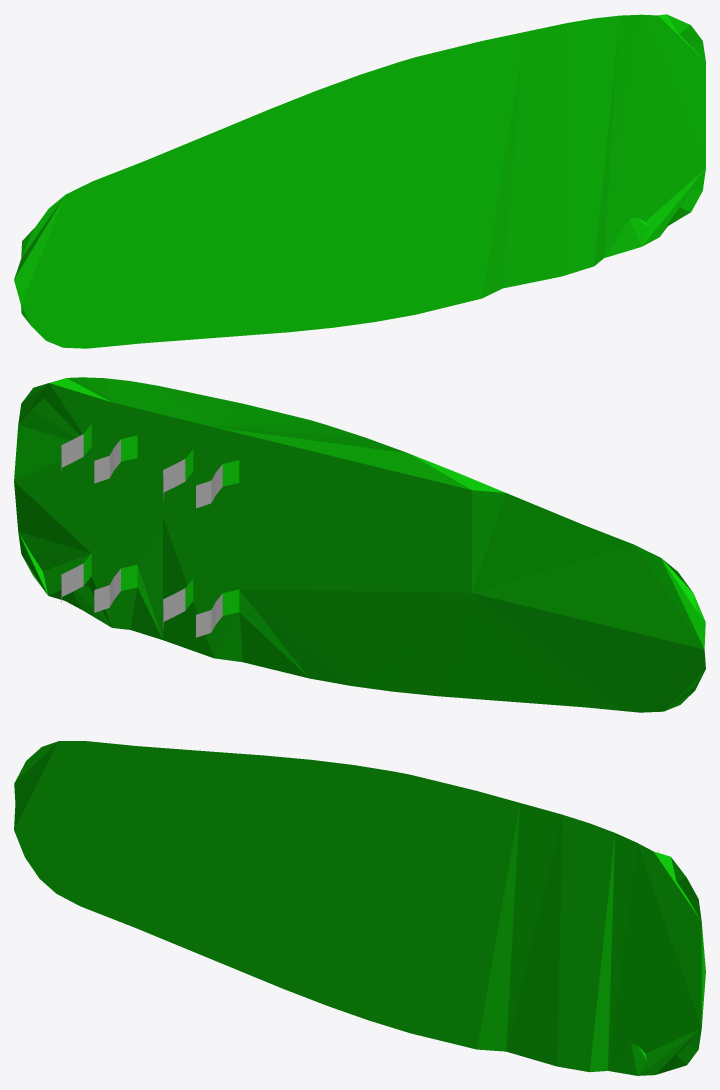
Rendered from PCB.fbx.
3 renders of one model, top to bottom at view 1: azimuth 30°, elevation 25°; view 2: azimuth 150°, elevation 25°; view 3: azimuth 330°, elevation 25°, orthographic.
Parts seen in each view (by area): view 1: PCB; view 2: PCB; view 3: PCB.
Part boxes in pixels (x1,y1,x2,y2): PCB: [14, 14, 705, 348]; PCB: [14, 377, 705, 712]; PCB: [14, 741, 705, 1075].
Size of the model in its own units: 9.5 by 3.4 by 0.9966.
